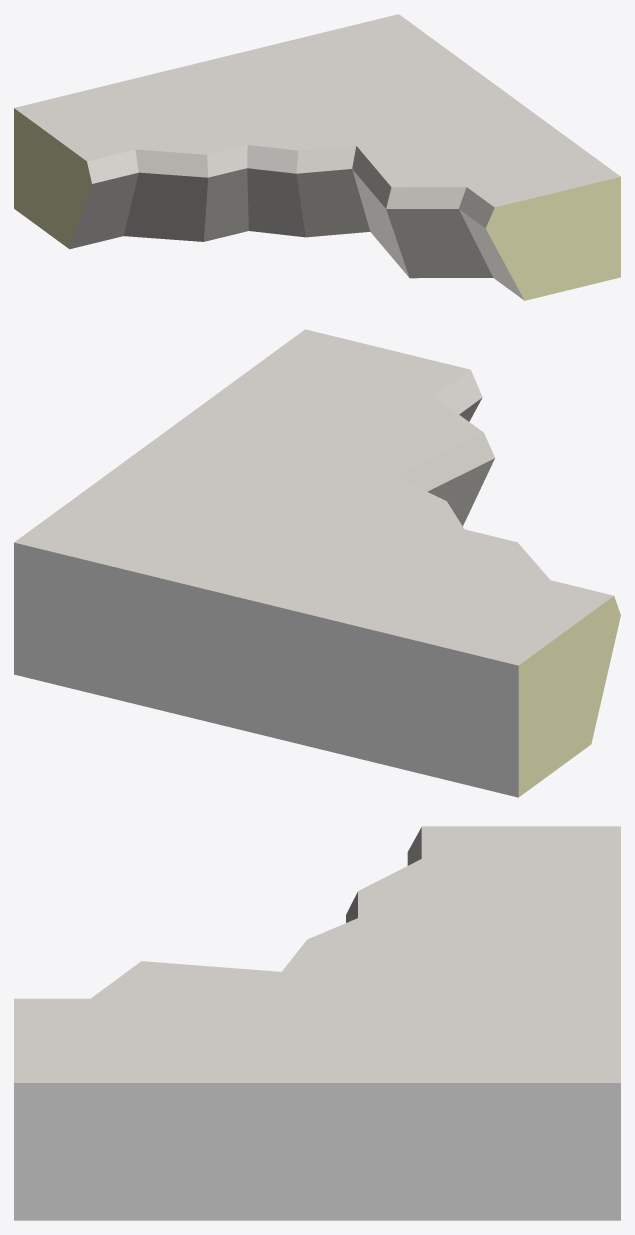
The model's file is Cracked_Curve_Inner_4x4_2_Top.glb.
The picture shows the model from 3 angles, top to bottom: view 1: azimuth 30°, elevation 25°; view 2: azimuth 150°, elevation 25°; view 3: azimuth 270°, elevation 25°; orthographic projection. The views are drawn at different scales.
Visible parts, largest first — view 1: Cracked_Curve_Inner_4x4_2_Top; view 2: Cracked_Curve_Inner_4x4_2_Top; view 3: Cracked_Curve_Inner_4x4_2_Top.
Boxes of the visible parts, <box> form: Cracked_Curve_Inner_4x4_2_Top: <box>14,14,620,300</box>; Cracked_Curve_Inner_4x4_2_Top: <box>14,329,620,797</box>; Cracked_Curve_Inner_4x4_2_Top: <box>14,826,620,1220</box>.
Size of the model in its own units: 400 by 100 by 400.
